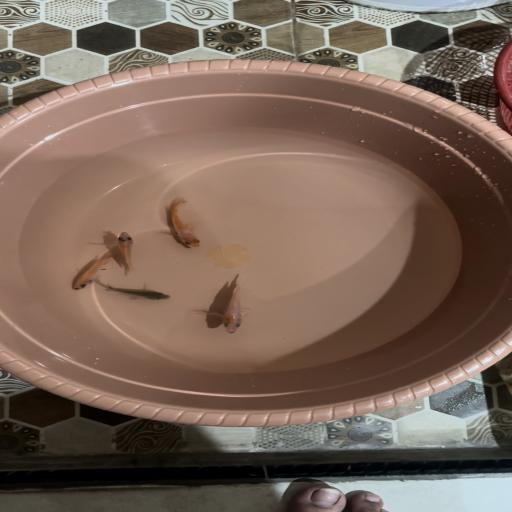nila: (208, 277, 258, 335), (157, 196, 207, 251), (95, 278, 174, 305), (68, 248, 115, 292), (110, 228, 143, 276)
